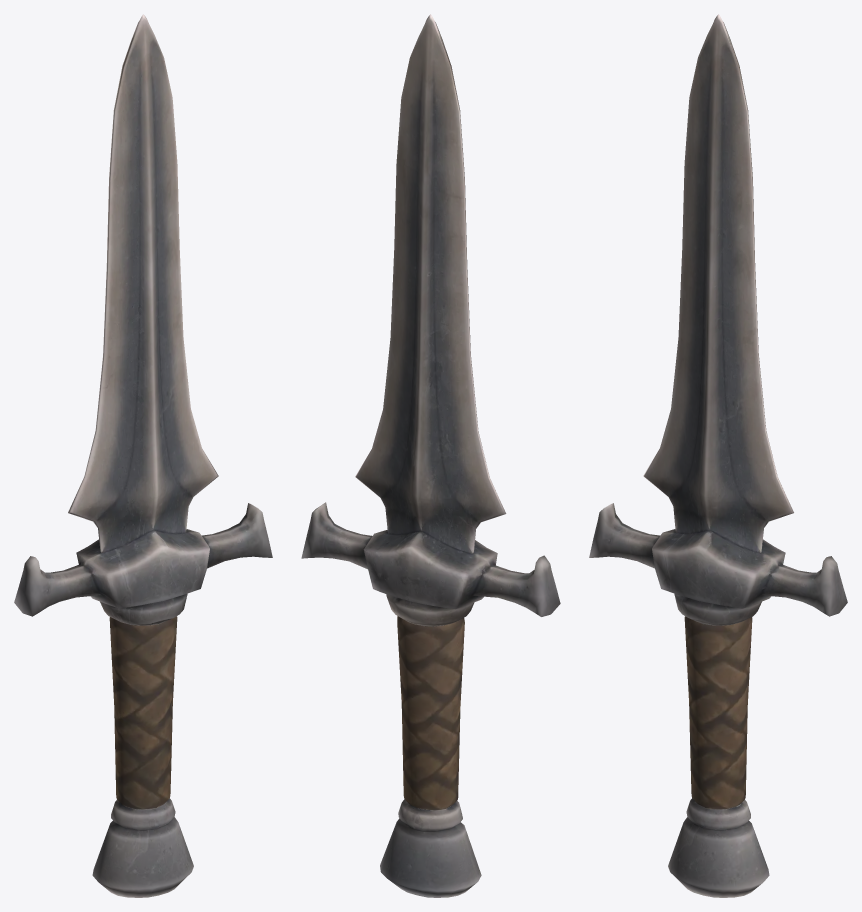
The picture shows the model from 3 angles, left to right: view 1: azimuth 30°, elevation 25°; view 2: azimuth 150°, elevation 25°; view 3: azimuth 330°, elevation 25°; orthographic projection.
Parts seen in each view (by area): view 1: SM_DaggerSteel_1H_01_LOD0; view 2: SM_DaggerSteel_1H_01_LOD0; view 3: SM_DaggerSteel_1H_01_LOD0.
Part boxes in pixels (x1=…): SM_DaggerSteel_1H_01_LOD0: x1=14, y1=14, x2=272, y2=897; SM_DaggerSteel_1H_01_LOD0: x1=301, y1=14, x2=560, y2=897; SM_DaggerSteel_1H_01_LOD0: x1=589, y1=14, x2=847, y2=897.
Bounding box in the file's own units: 0.1615 × 0.558 × 0.0503.
Materials: 1 (1 with a texture image).
